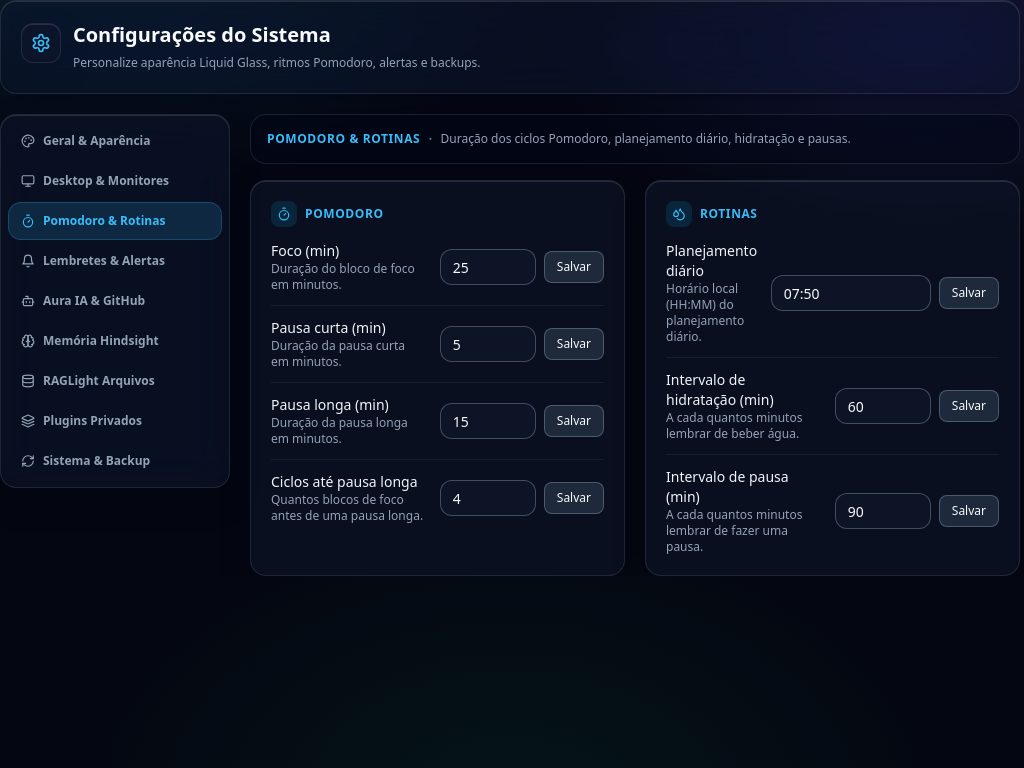
Test case: SettingsPage › allows changing number values, shows unsaved badge, and saves them
Replace the text in the number field named "Foco (min)" with "30" at (488, 266), box [440,248,536,284]
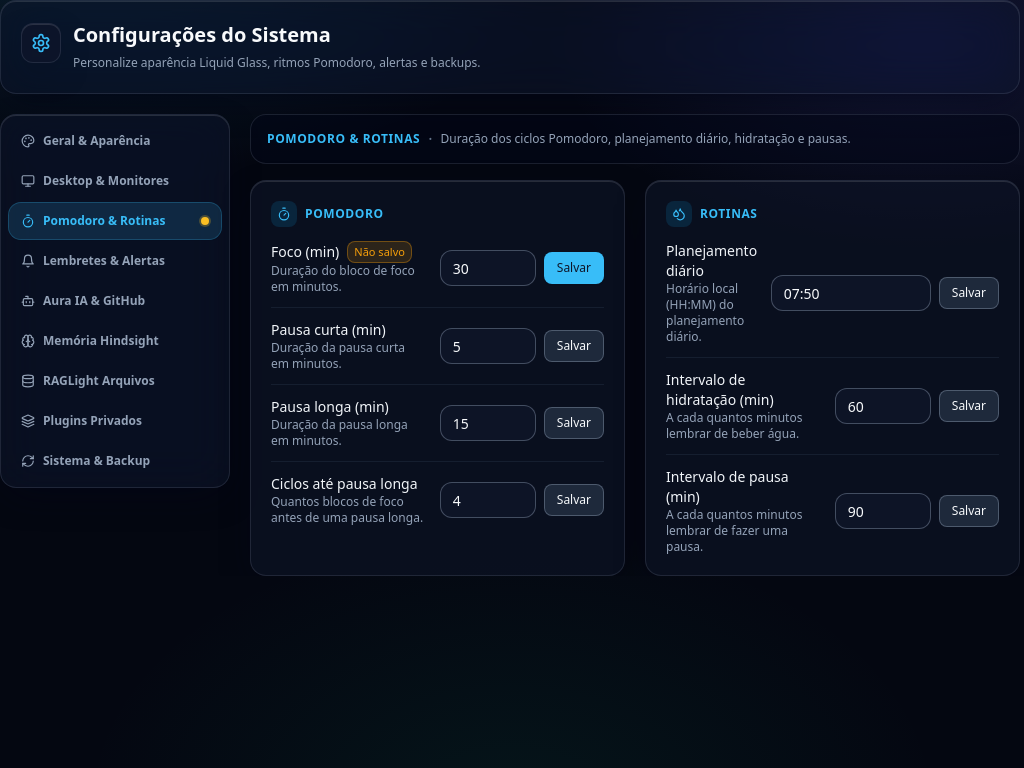
Expected: the text "Não salvo" is shown, [347,240,412,262]
Expected: the element titled "Não salvo" is shown, [201,216,209,224]
Submit the form named "Foco (min)", box [440,250,604,286]
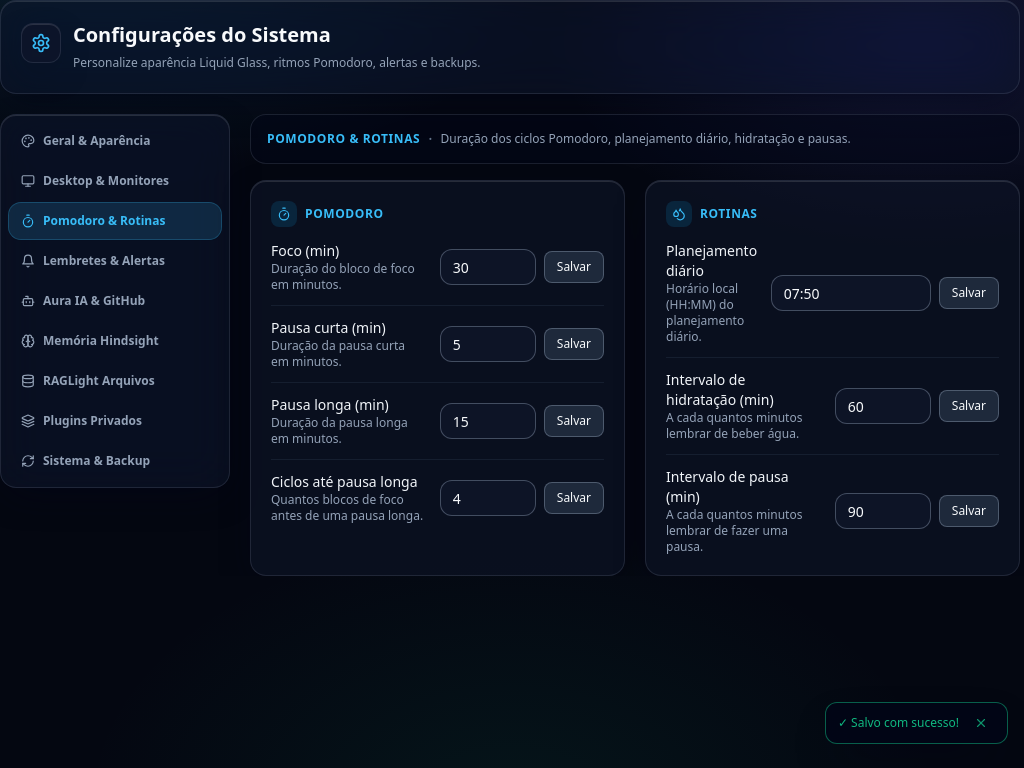
Expected: the text "✓ Salvo com sucesso!" is shown, [838,715,959,731]
Expected: the text "Não salvo" is gone
